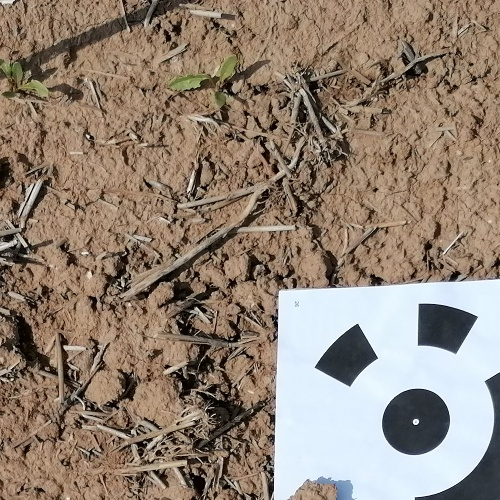beet: (167, 58, 235, 108), (0, 62, 49, 100)
